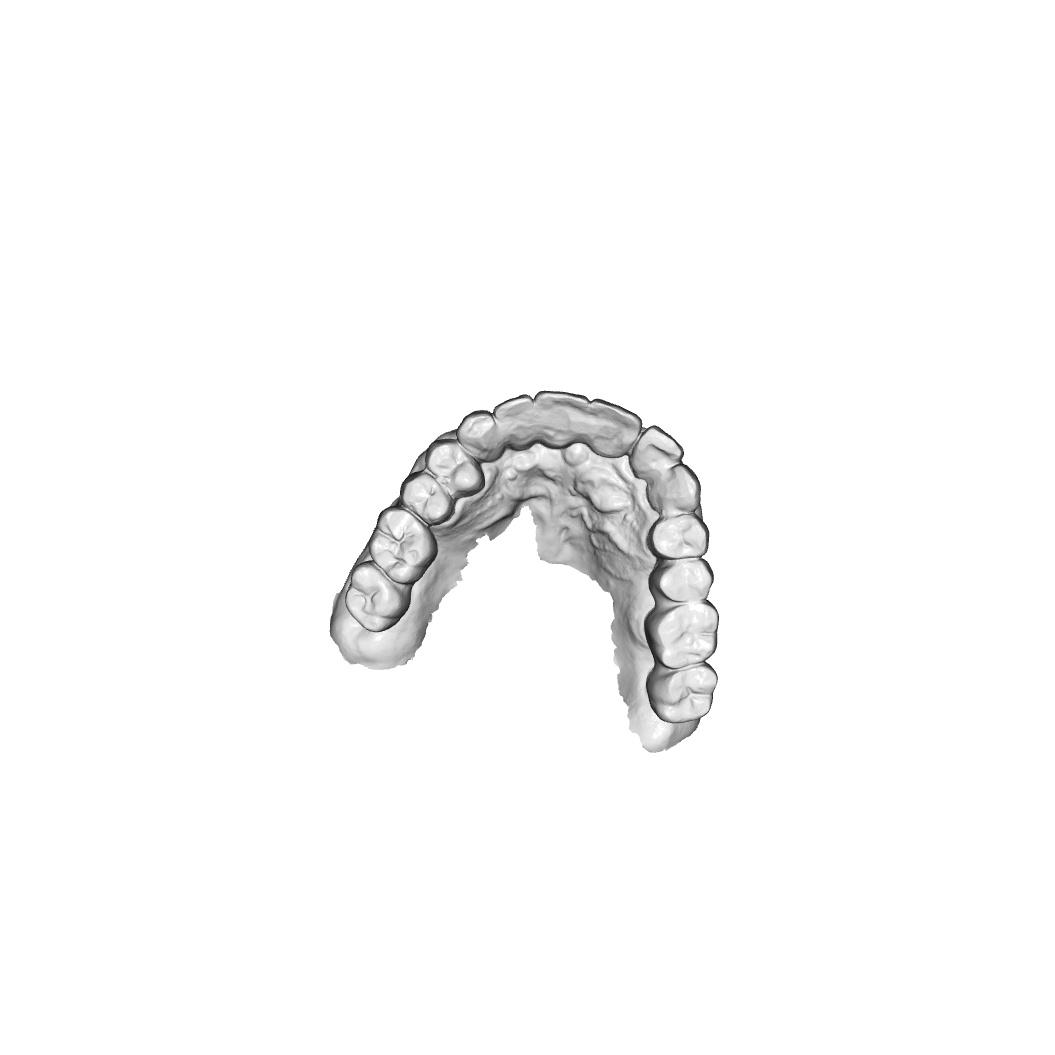canine: (646, 462, 702, 517), (456, 409, 506, 464)
incisor: (534, 389, 590, 449), (627, 424, 685, 481), (590, 398, 643, 459), (492, 394, 535, 451)
molar: (368, 505, 439, 586), (643, 600, 721, 670), (344, 560, 412, 634), (645, 661, 718, 724)
premolar: (424, 438, 486, 499), (398, 471, 456, 527), (648, 556, 715, 604), (645, 513, 710, 561)
